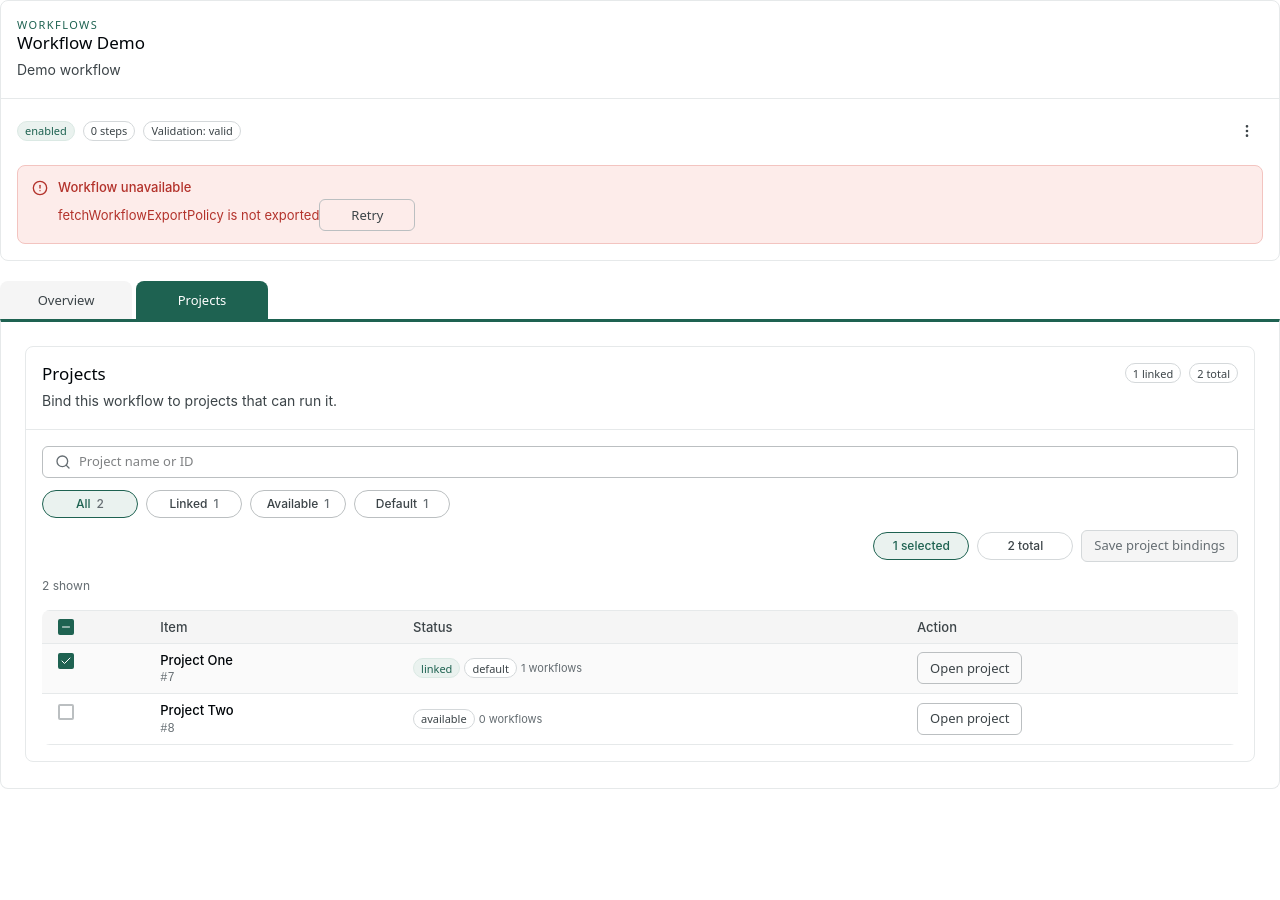
Test: WorkflowsProjectsPage › keeps linked/default badges and counts persisted while selection changes remain unsaved
The width and height of the screenshot is (1280, 900).
Click the checkbox named "Toggle Project Two". click: (66, 712)
box: [58,704,74,720]
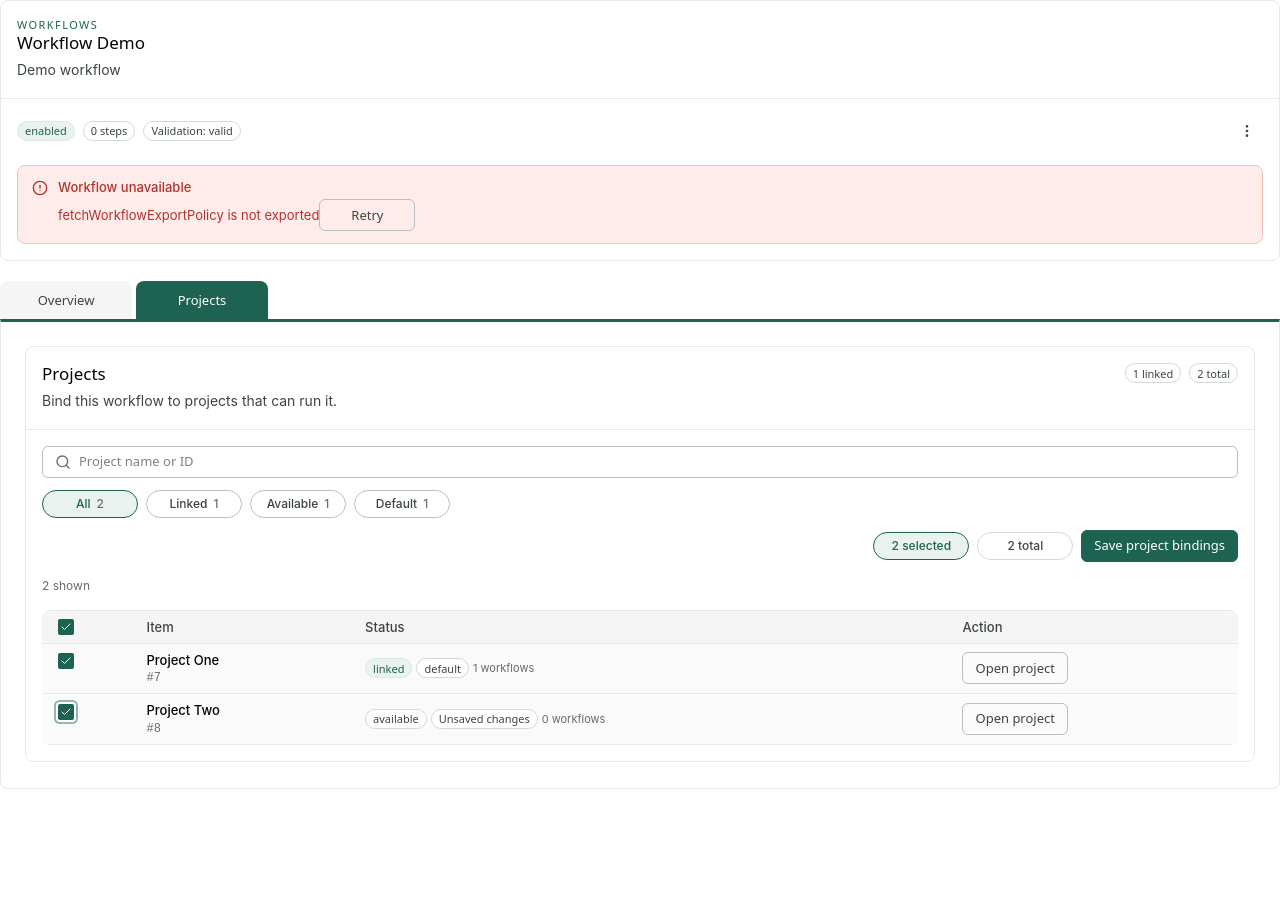
Now the checkbox named "Toggle Project Two" is checked, box [58,704,74,720]
Now the text "Unsaved changes" is shown, box [431,709,538,729]
Now the text "2 selected" is shown, box [873,532,969,560]
